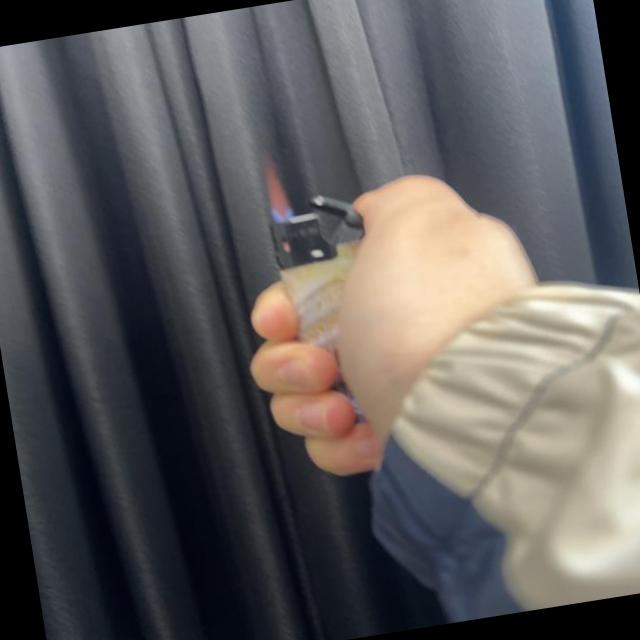Fire: (260, 159, 295, 226)
